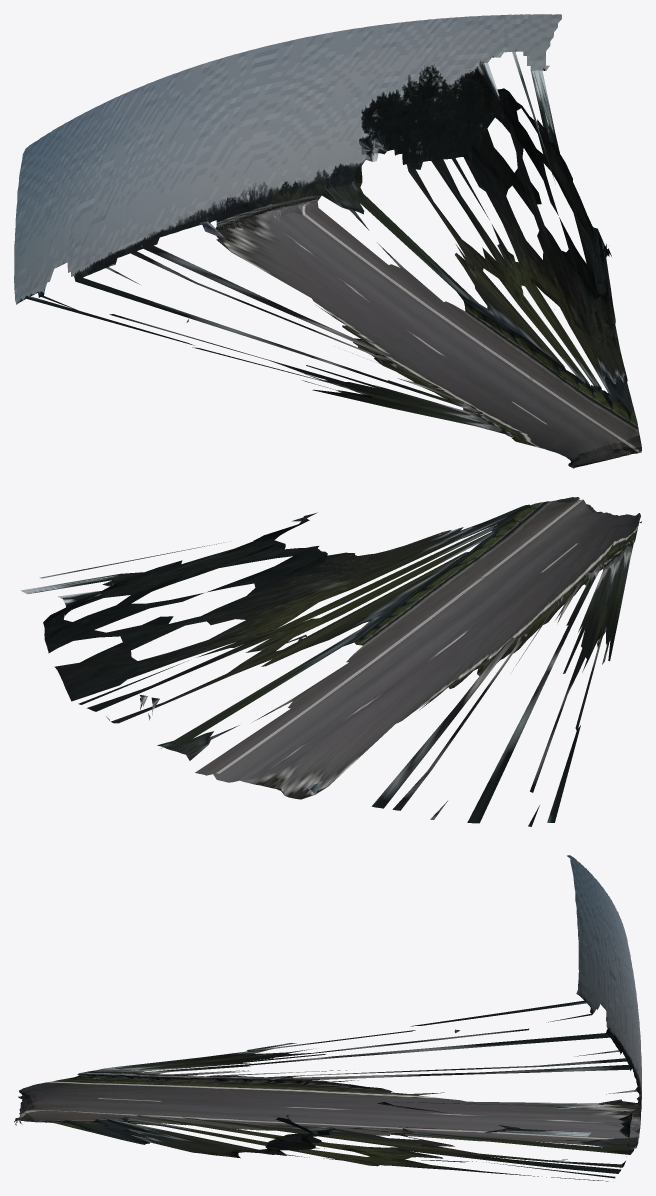
The picture shows the model from 3 angles, top to bottom: view 1: azimuth 30°, elevation 25°; view 2: azimuth 150°, elevation 25°; view 3: azimuth 270°, elevation 25°; orthographic projection. The views are drawn at different scales.
Parts seen in each view (by area): view 1: defaultobject; view 2: defaultobject; view 3: defaultobject.
Boxes of the visible parts, <box> form: defaultobject: <box>14,14,641,468</box>; defaultobject: <box>21,497,641,826</box>; defaultobject: <box>14,855,641,1181</box>.
Bounding box in the file's own units: 40.03 × 12.73 × 44.52.
1 material, 1 textured.
